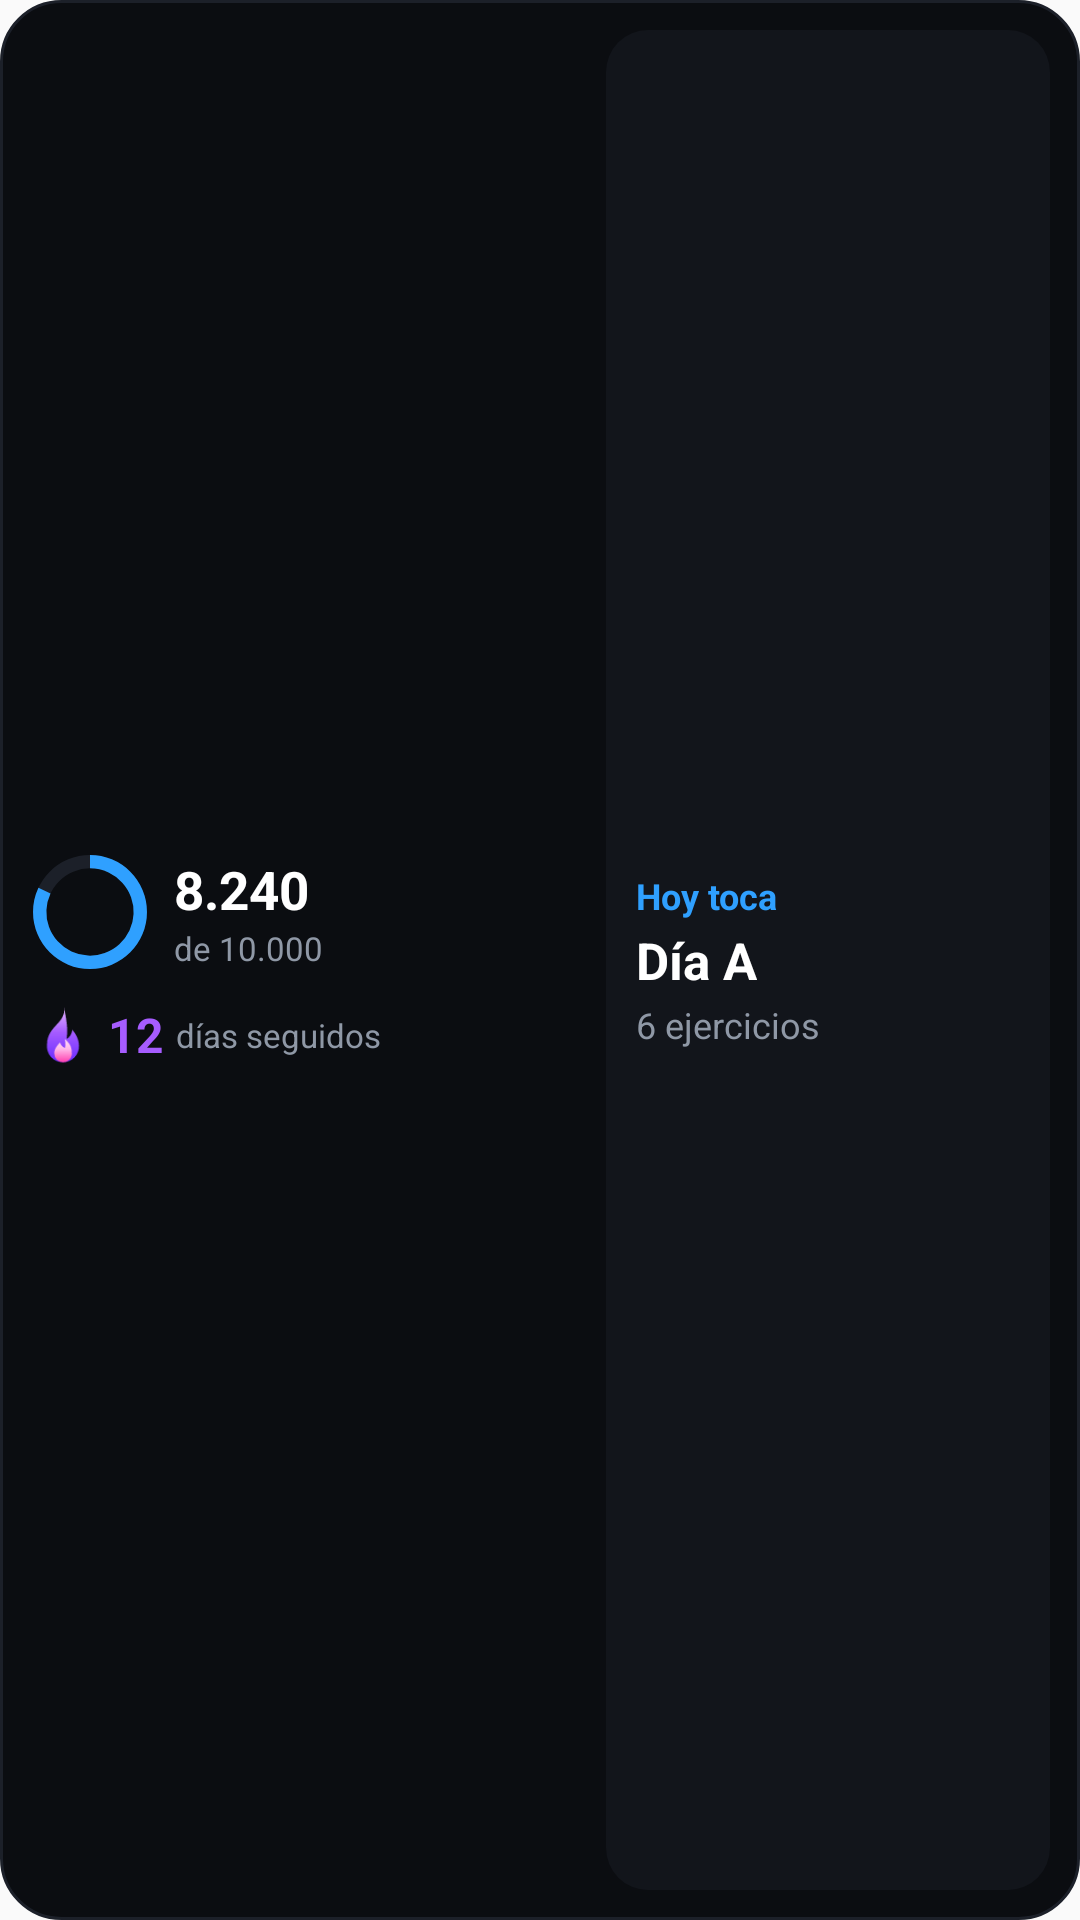

Where to tap for icons on this 1080 × 1920 app screen, as [x,y]:
Racha: [63,1035]
